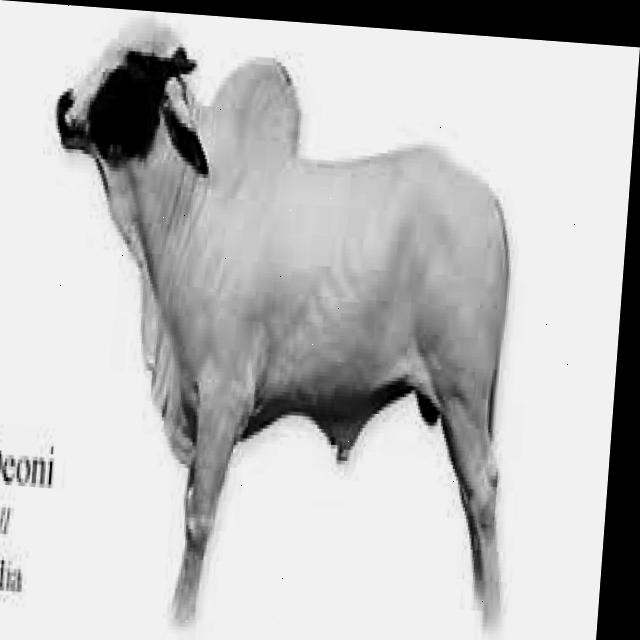Cow: (18, 9, 545, 640)
